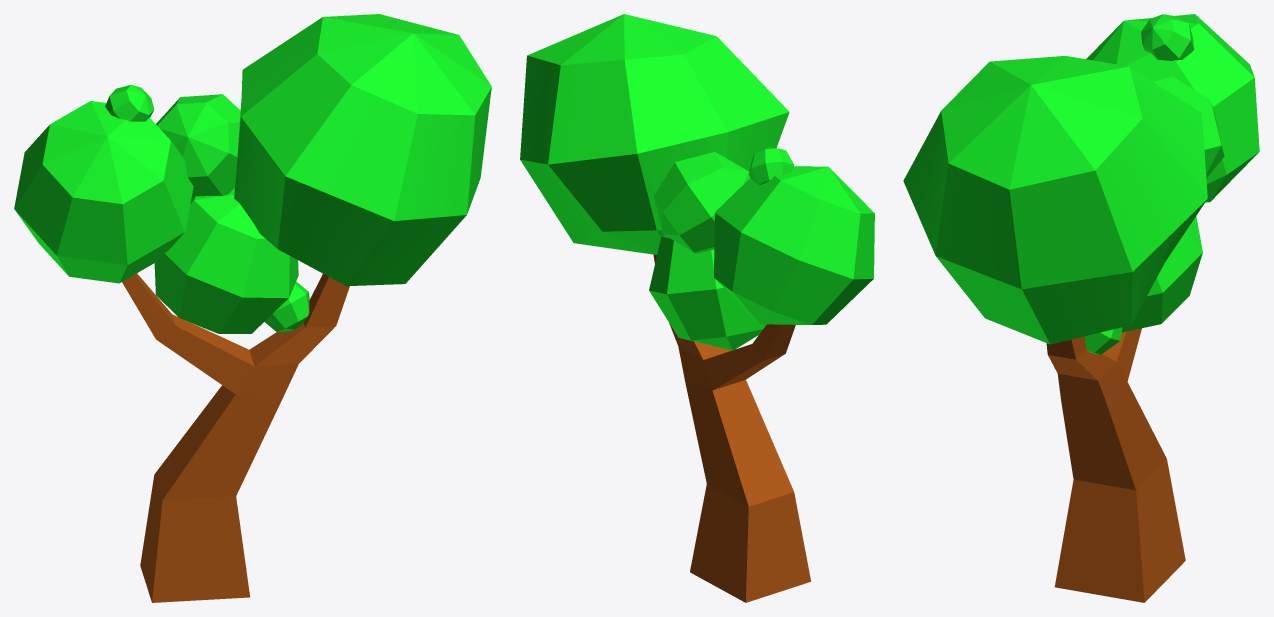
3 renders of one model, left to right at view 1: azimuth 30°, elevation 25°; view 2: azimuth 150°, elevation 25°; view 3: azimuth 270°, elevation 25°, orthographic. The views are drawn at different scales.
Visible parts, largest first — view 1: polySurface9, Wood Branch, polySurface3, polySurface7, polySurface5, polySurface1, polySurface11; view 2: polySurface9, Wood Branch, polySurface3, polySurface7, polySurface5, polySurface1; view 3: polySurface9, Wood Branch, polySurface3, polySurface7, polySurface1, polySurface5, polySurface11.
Boxes of the visible parts, left/top/right/bottom form: polySurface9: left=234, top=14, right=491, bottom=286; Wood Branch: left=122, top=273, right=349, bottom=602; polySurface3: left=14, top=101, right=193, bottom=283; polySurface7: left=154, top=187, right=298, bottom=333; polySurface5: left=156, top=94, right=240, bottom=199; polySurface1: left=105, top=84, right=154, bottom=121; polySurface11: left=264, top=281, right=309, bottom=332; polySurface9: left=520, top=14, right=789, bottom=254; Wood Branch: left=653, top=254, right=810, bottom=602; polySurface3: left=714, top=166, right=874, bottom=324; polySurface7: left=649, top=235, right=766, bottom=350; polySurface5: left=653, top=152, right=750, bottom=253; polySurface1: left=748, top=147, right=793, bottom=184; polySurface9: left=903, top=56, right=1207, bottom=344; Wood Branch: left=1046, top=328, right=1185, bottom=602; polySurface3: left=1086, top=14, right=1259, bottom=202; polySurface7: left=1121, top=216, right=1202, bottom=332; polySurface1: left=1141, top=14, right=1194, bottom=60; polySurface5: left=1153, top=77, right=1224, bottom=178; polySurface11: left=1084, top=327, right=1122, bottom=354.
Bounding box in the file's own units: 0.8912 × 1.14 × 0.6321.
